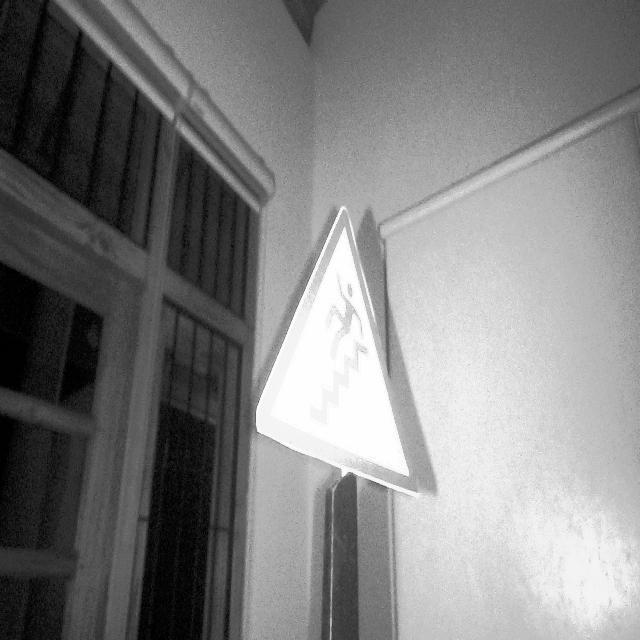Sign: (254, 204, 420, 499)
